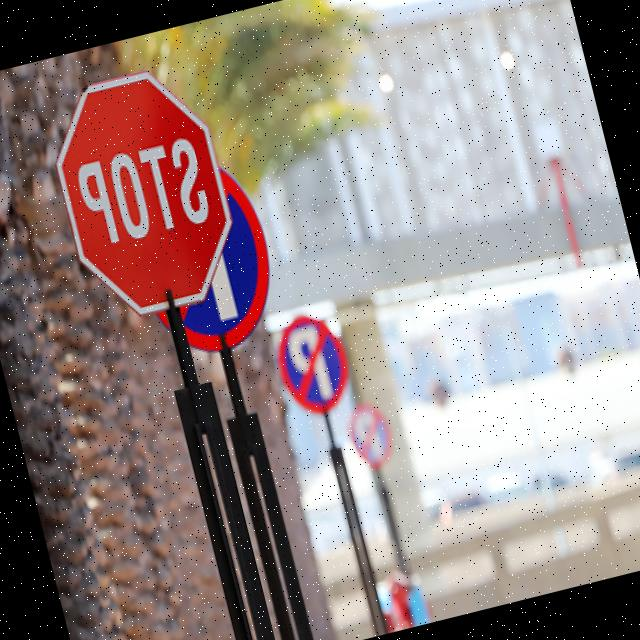stop: (29, 60, 250, 332)
